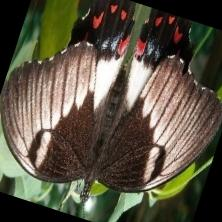butterfly: (0, 0, 222, 199)
